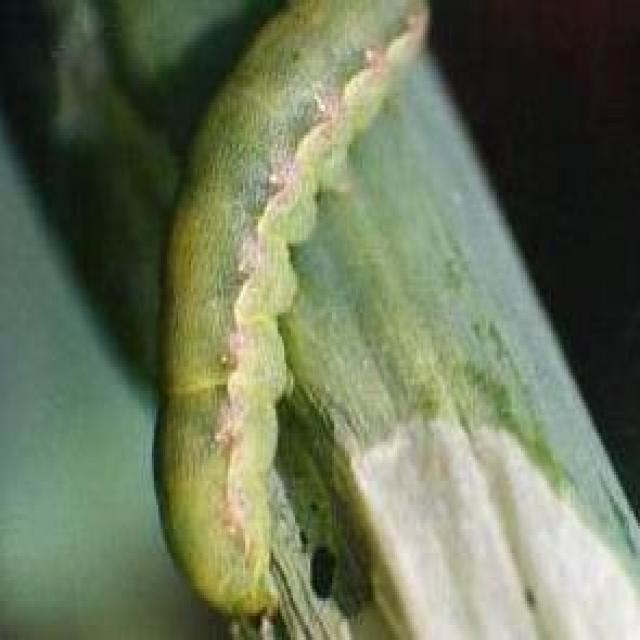BeetArmyWorm-Larva-: (139, 3, 432, 631)
